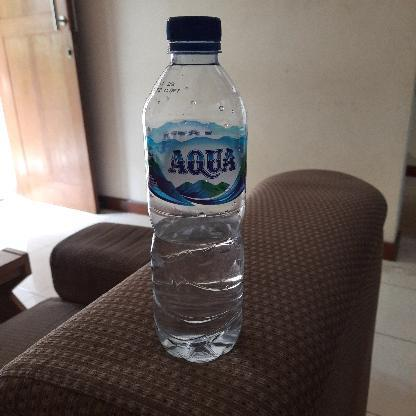Plastic Bottle: (143, 13, 253, 367)
